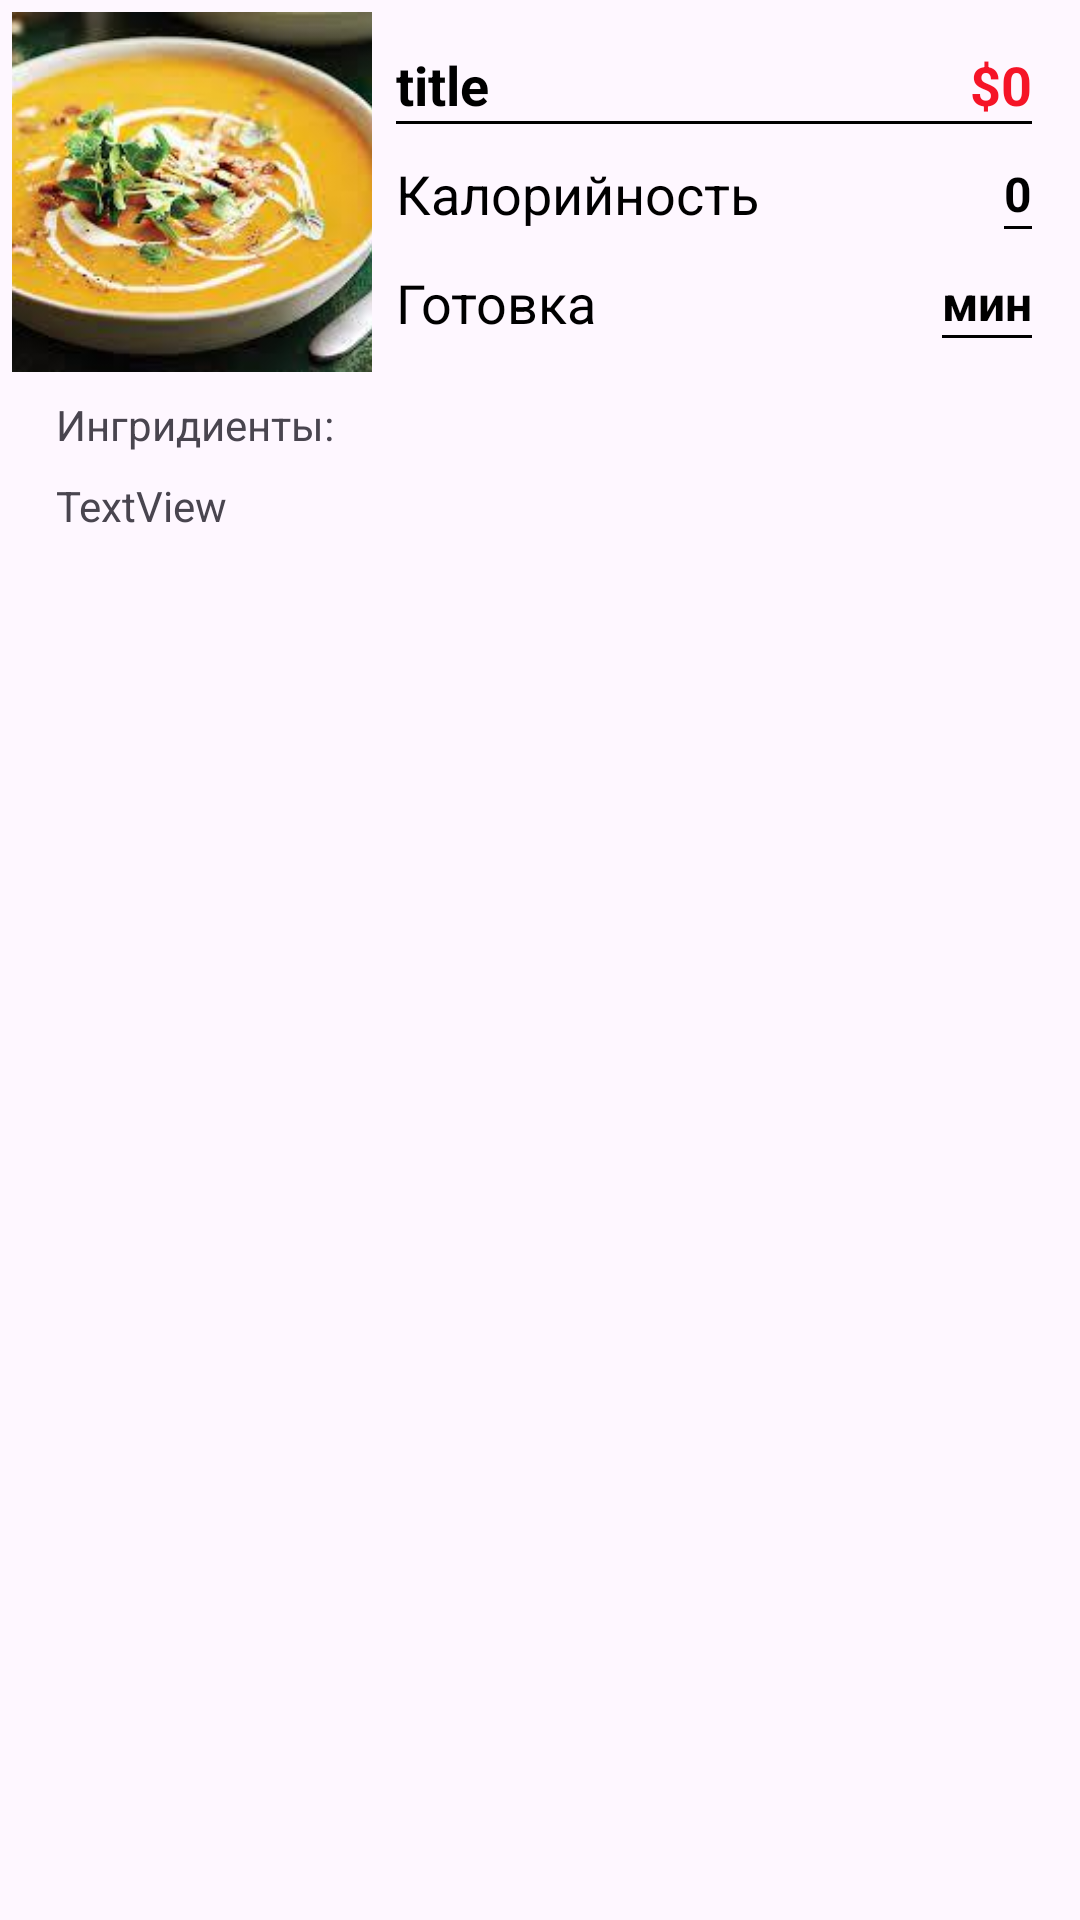

Named icons in this screenshot (1080px×1920px) and their centers, (x,y):
pumpkin soup: (192,192)
